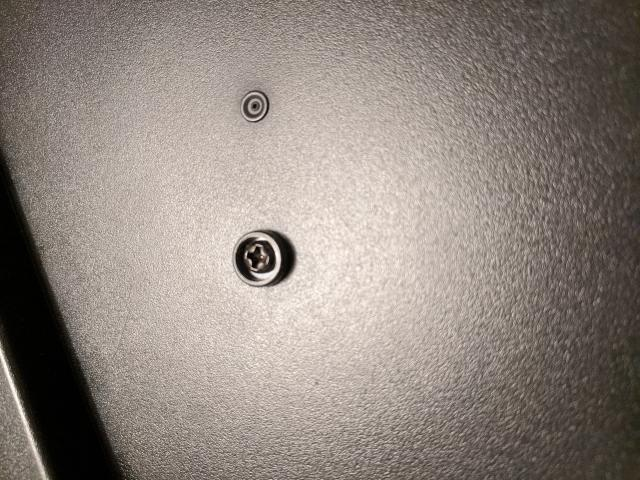CRS: (238, 237, 278, 278)
